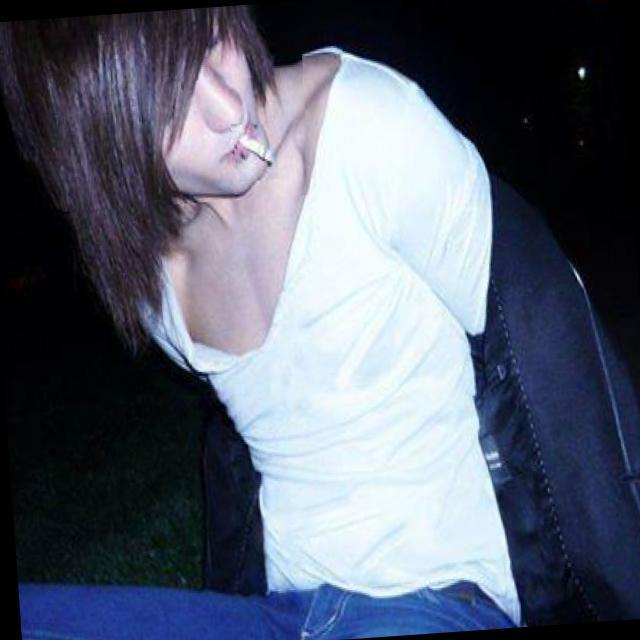cigarette: (230, 120, 279, 182)
